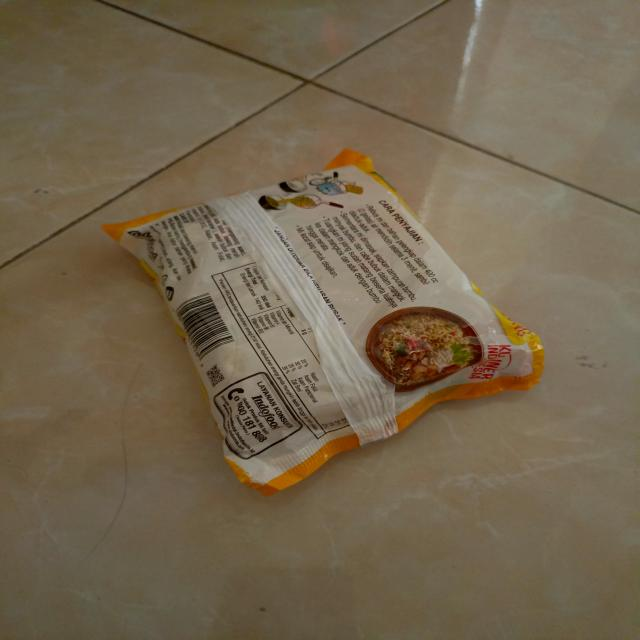indomie-mie-kocok-bandung: (102, 150, 544, 496)
